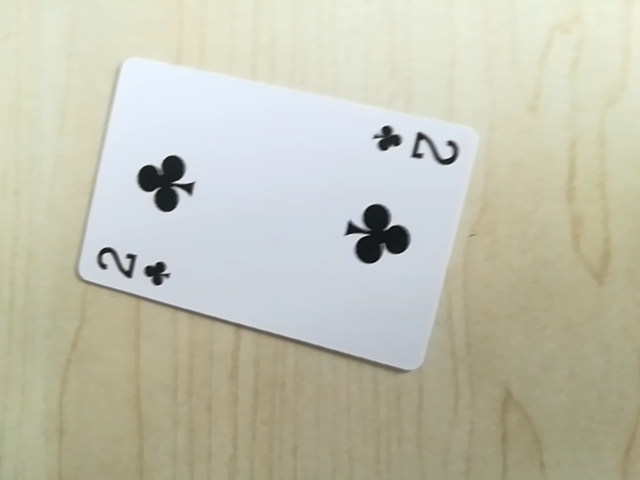mh 2: (89, 241, 179, 292), (370, 123, 463, 171)
